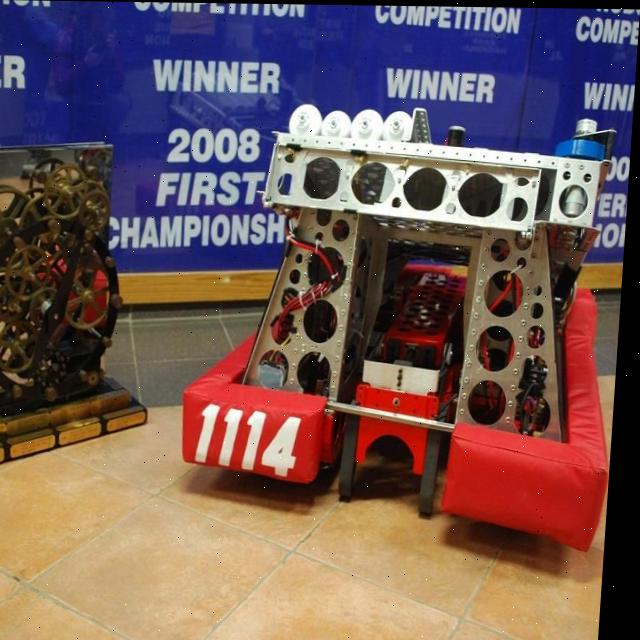robot: (181, 93, 635, 565)
